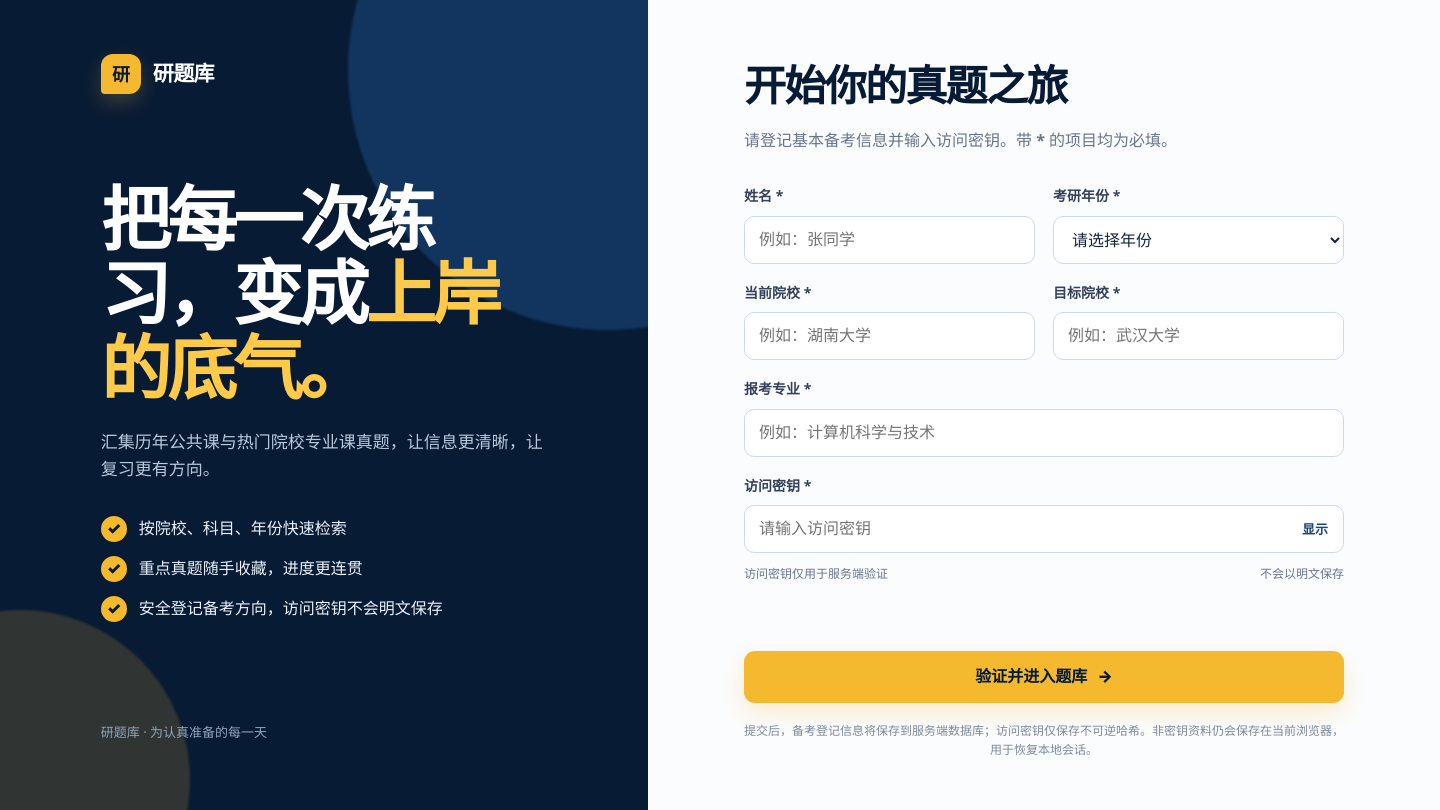
Test case: SessionGate › disables repeated submission while registration is pending
In the field labelled "姓名 *": [890, 240] box [744,216,1035,264], type "张同学"
Select "2027 届" in the dropdown labelled "考研年份 *": [1198, 240] box [1053,216,1344,264]
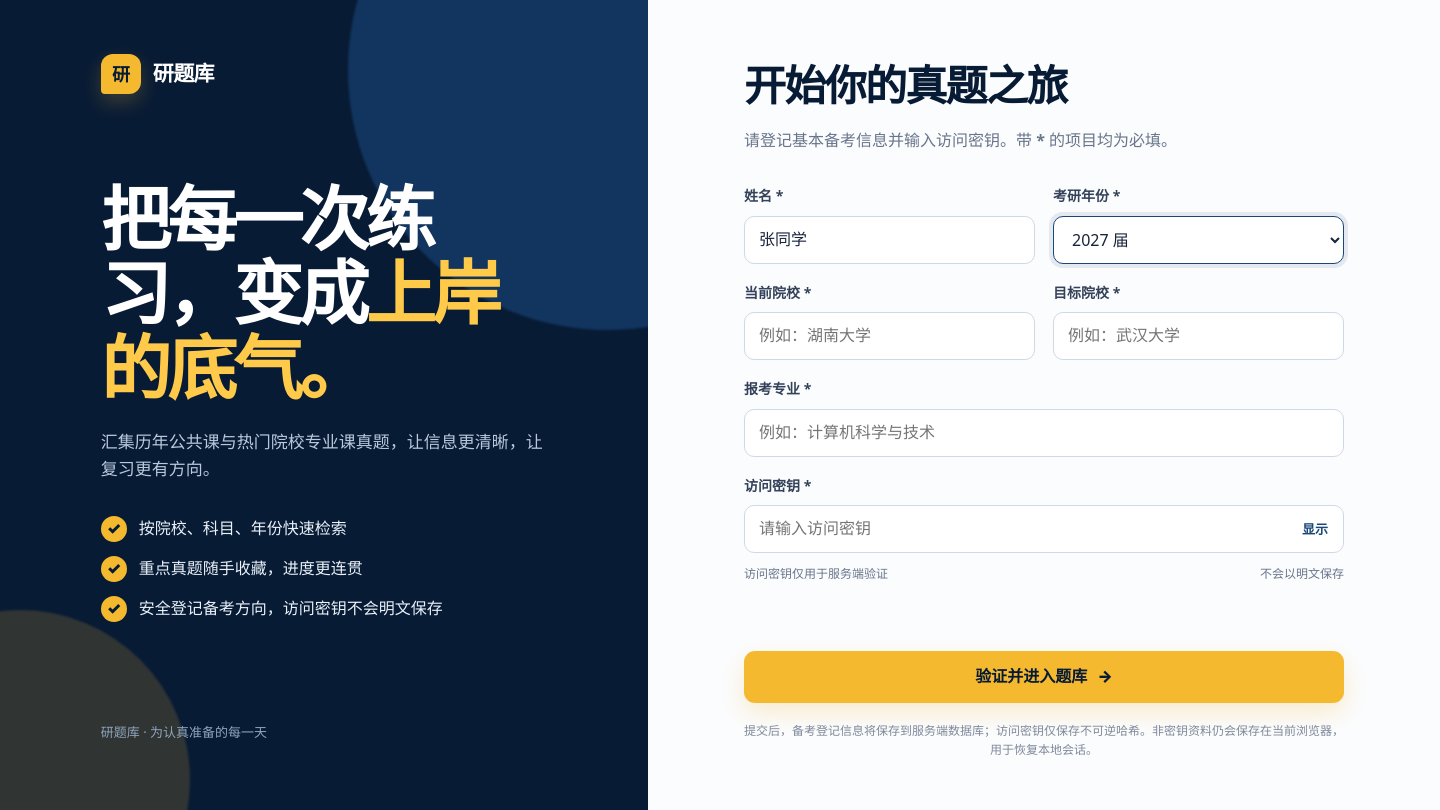
In the field labelled "当前院校 *": [890, 336] box [744,312,1035,360], type "湖南大学"
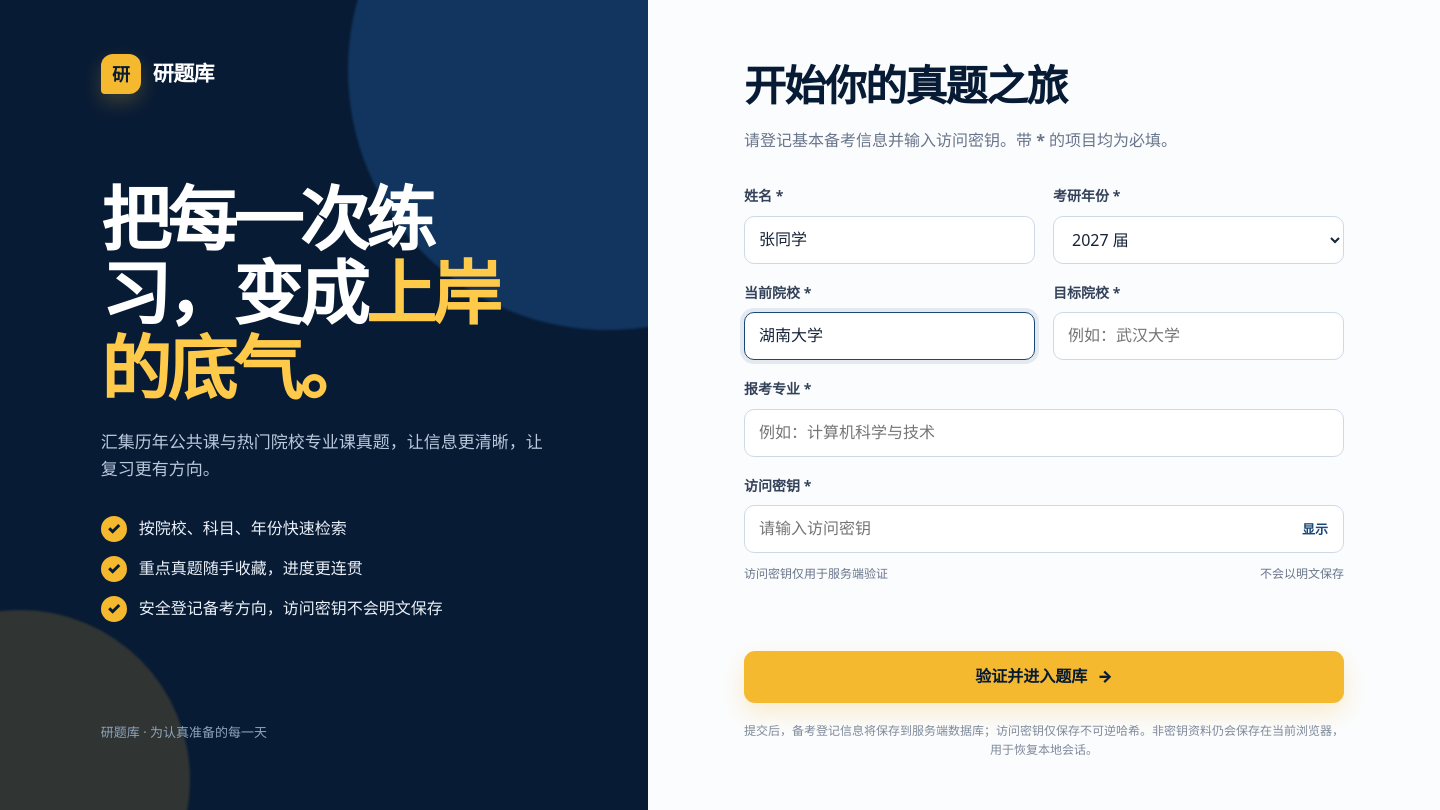
In the field labelled "目标院校 *": [1198, 336] box [1053,312,1344,360], type "武汉大学"
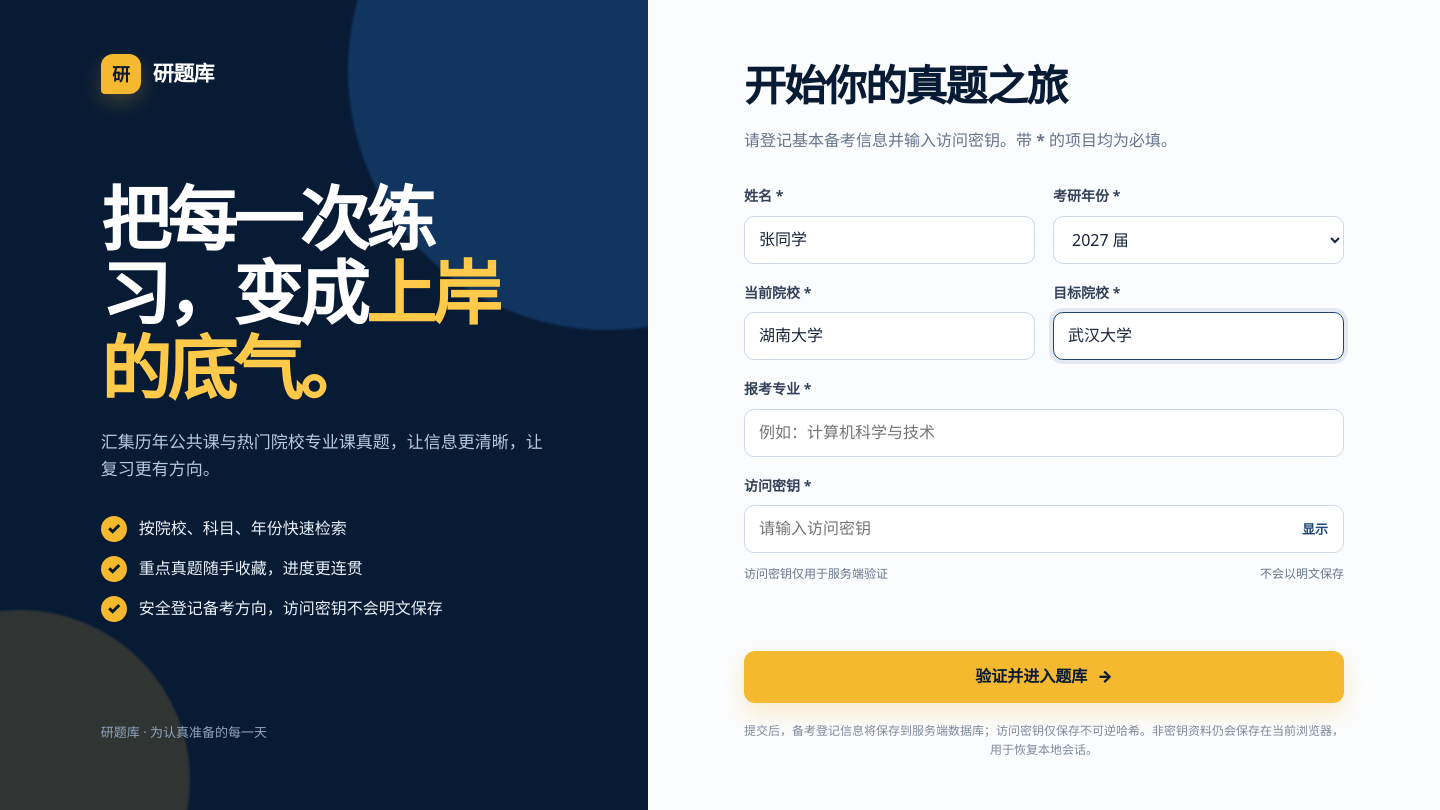
In the field labelled "报考专业 *": [1044, 432] box [744,408,1344,456], type "计算机科学与技术"
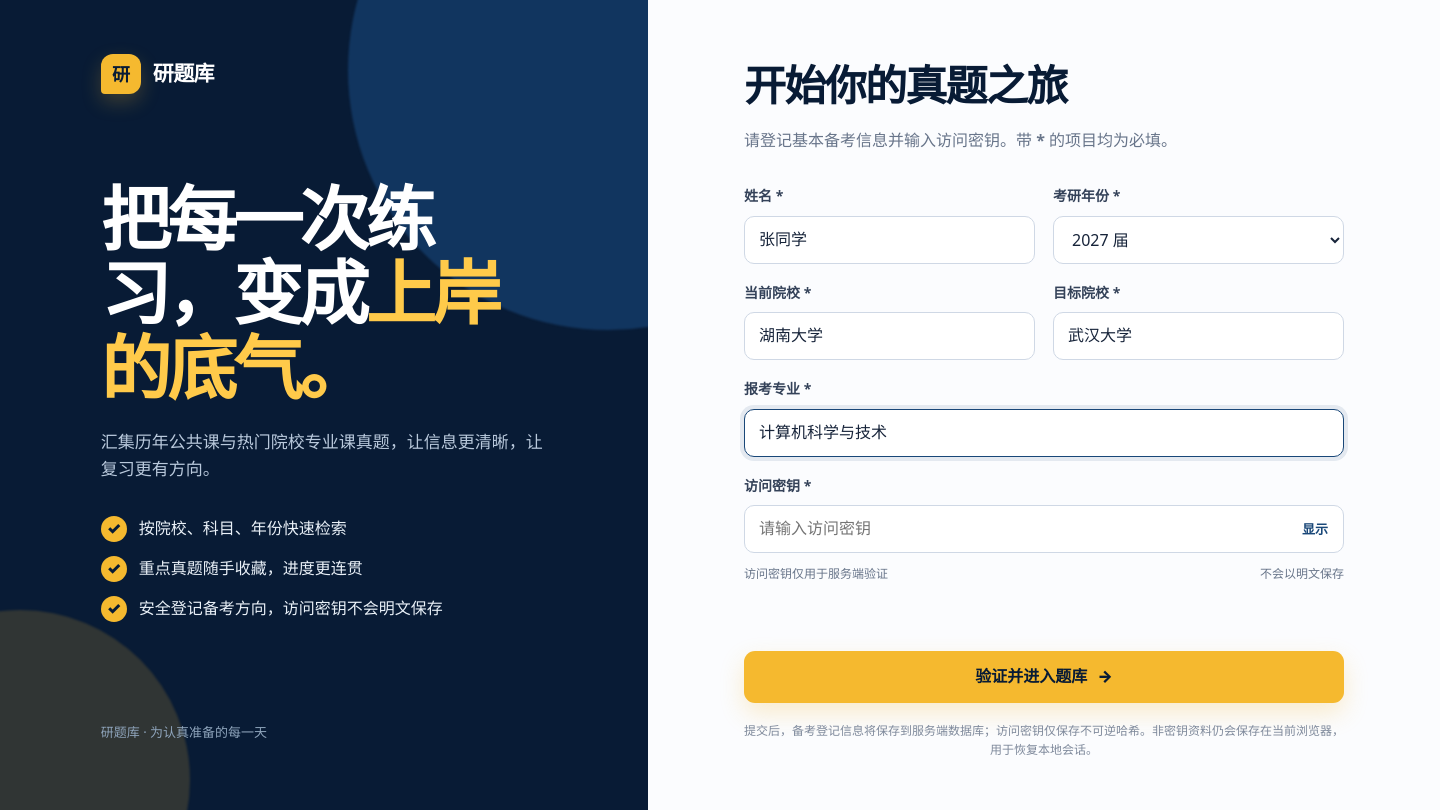
In the password field labelled "访问密钥 *": [1044, 529] box [744,505,1344,553], type "KY2027"
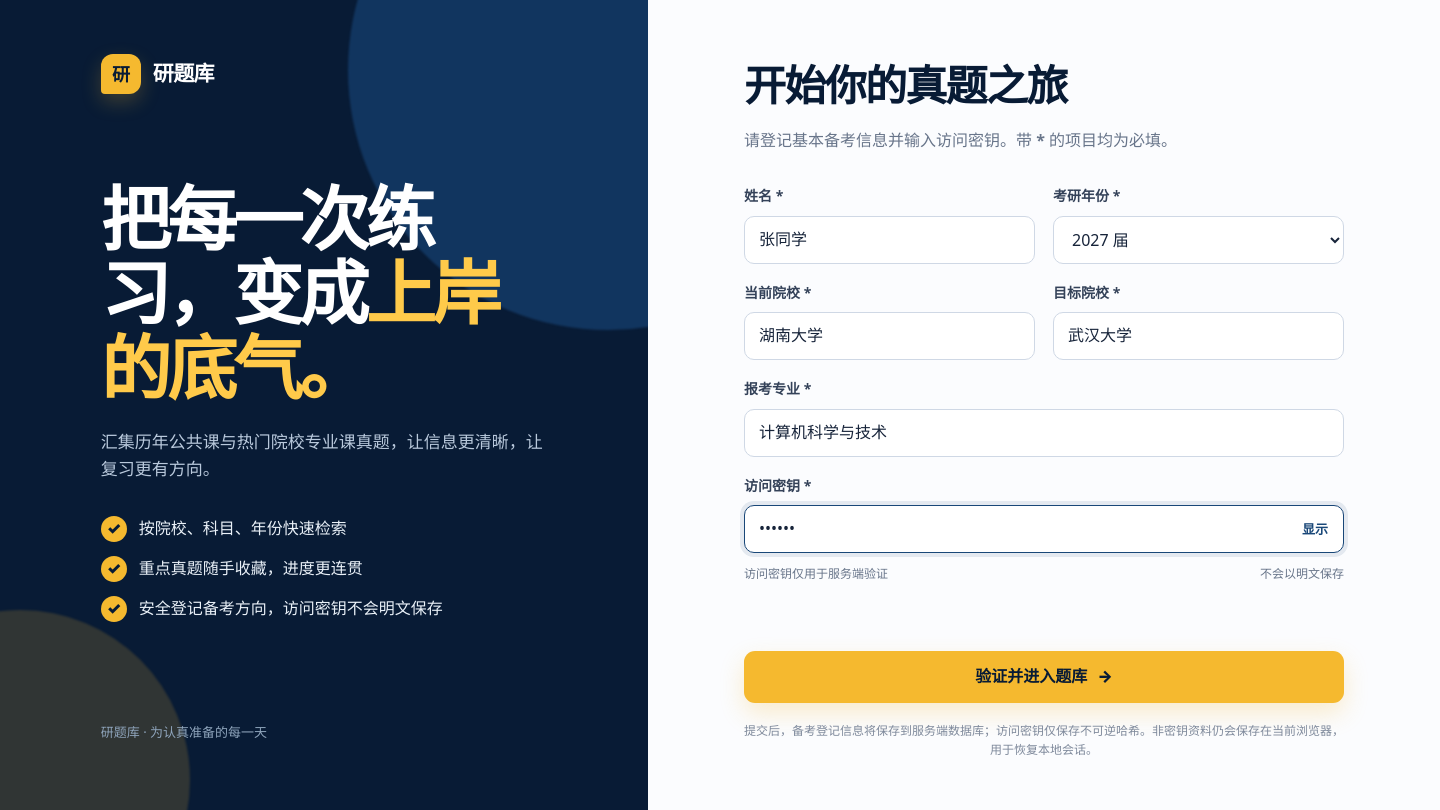
Click the button "验证并进入题库 →": [1044, 677] box [744,651,1344,703]
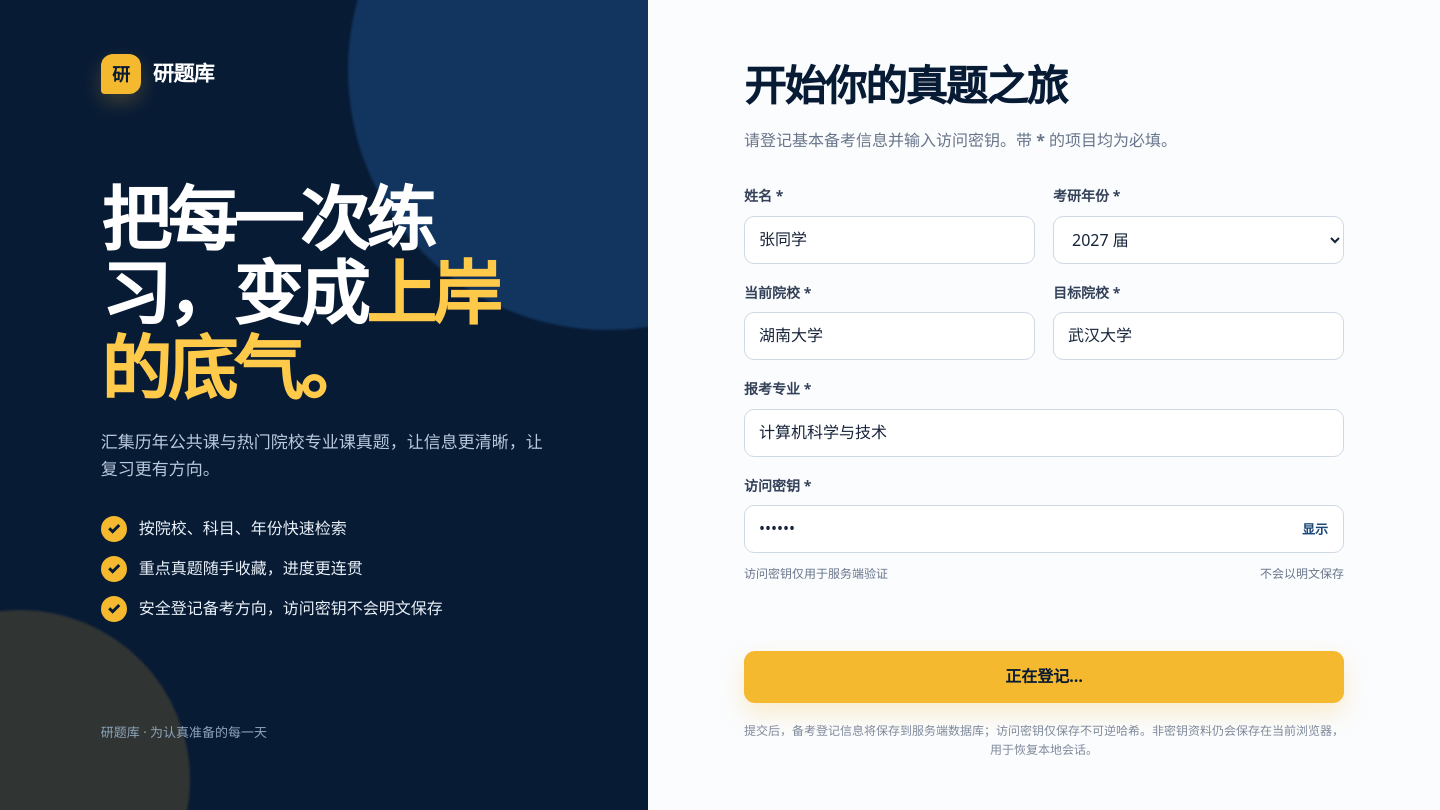
Now the button "正在登记…" is disabled, box [744,651,1344,703]
